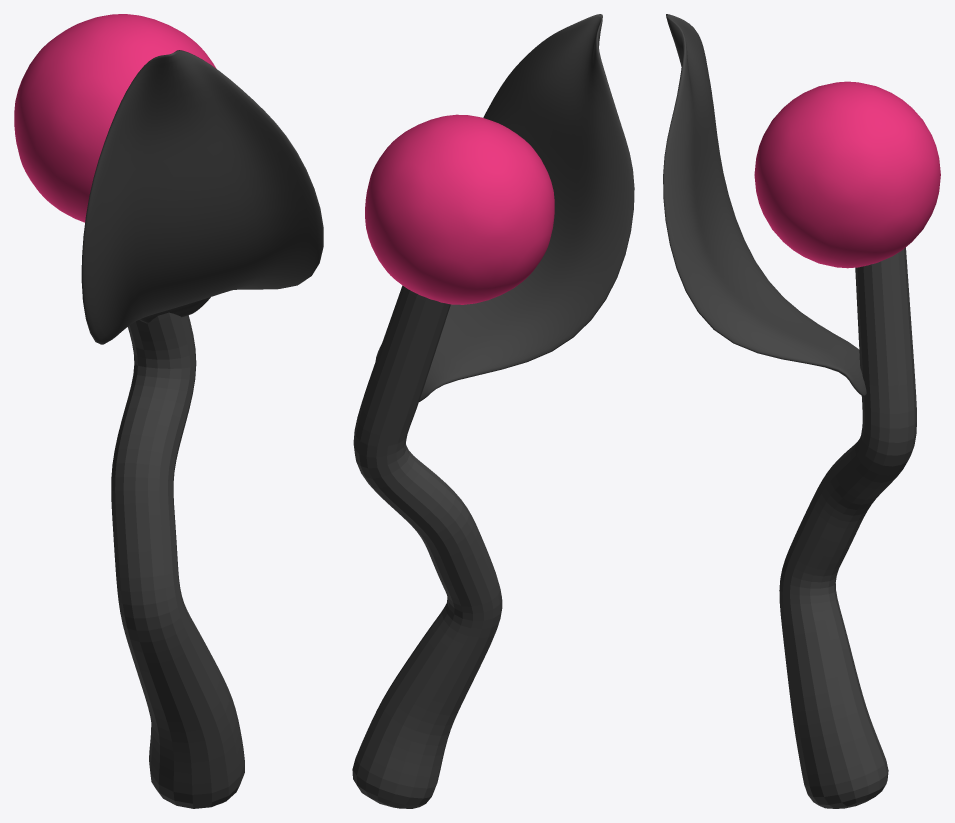
The model's file is MegaPlant#02.fbx.
The picture shows the model from 3 angles, left to right: view 1: azimuth 30°, elevation 25°; view 2: azimuth 150°, elevation 25°; view 3: azimuth 270°, elevation 25°; orthographic projection. The views are drawn at different scales.
Visible parts, largest first — view 1: Plane.003, Vert, Icosphere.002; view 2: Plane.003, Vert, Icosphere.002; view 3: Vert, Icosphere.002, Plane.003.
Boxes of the visible parts, bbox=[...] form: Plane.003: bbox=[81, 50, 323, 344]; Vert: bbox=[111, 312, 244, 808]; Icosphere.002: bbox=[14, 14, 216, 222]; Plane.003: bbox=[375, 14, 634, 401]; Vert: bbox=[352, 285, 502, 808]; Icosphere.002: bbox=[365, 114, 554, 304]; Vert: bbox=[779, 247, 916, 808]; Icosphere.002: bbox=[754, 81, 940, 268]; Plane.003: bbox=[663, 14, 866, 396].
Size of what is drawn, in the model's own units: 158 by 550 by 188.
